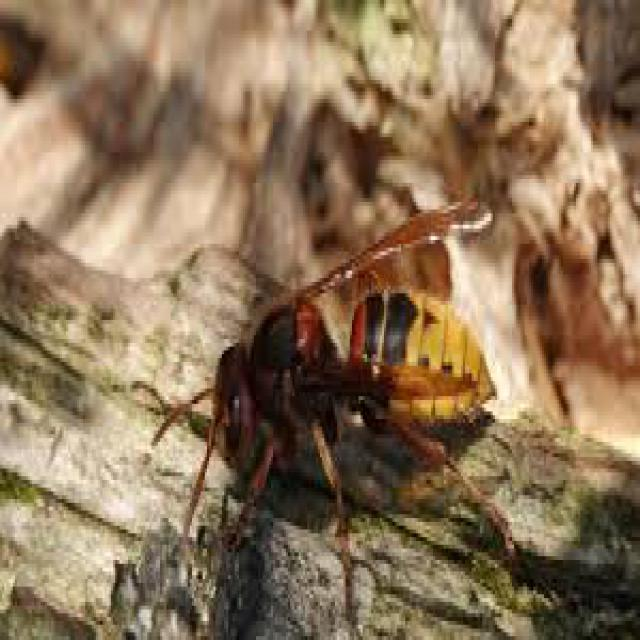Vespa Crabro: (139, 150, 539, 618)
